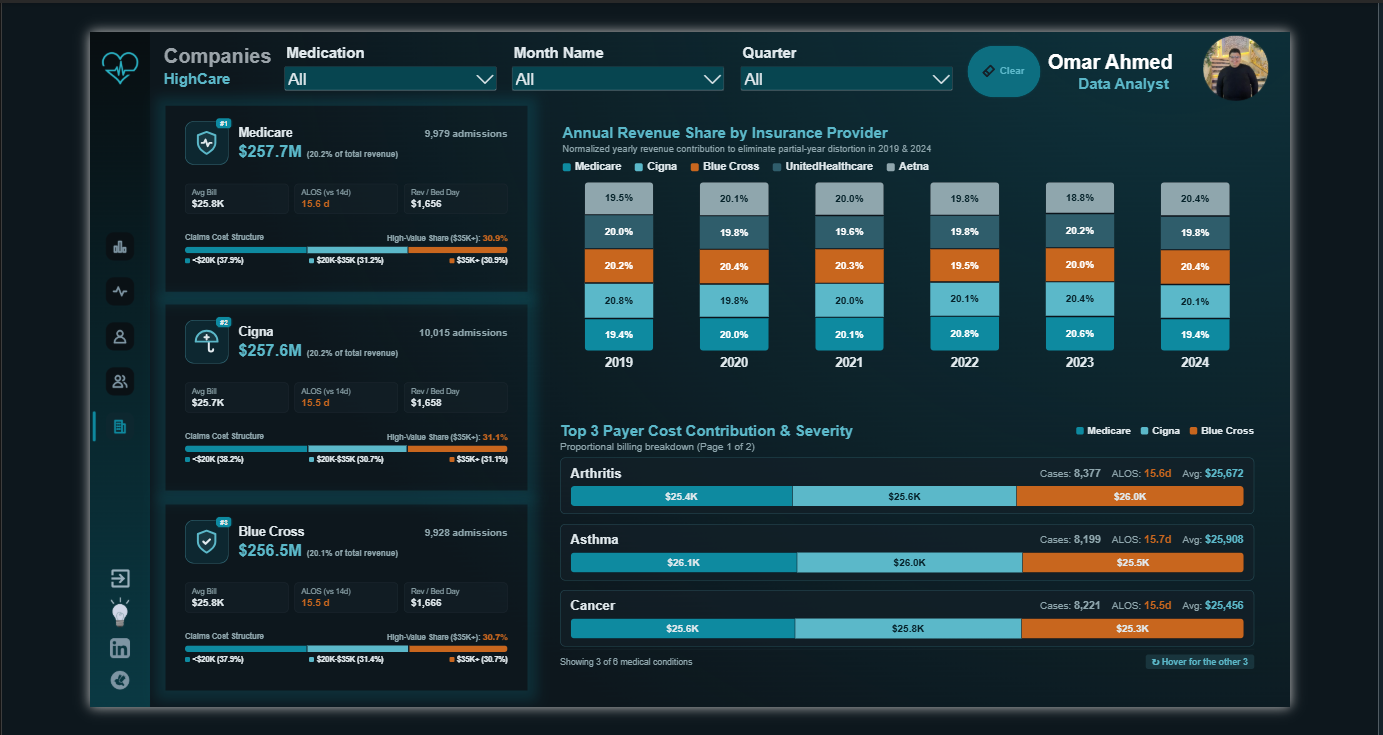

What the dashboard file says about the page in this screenshot:
{"tool":"powerbi","page":{"name":"Insurance Companies","canvas":[1920,1080],"ordinal":5},"visuals":[{"type":"slicer","fields":{"Values":["Dim_Date.Month Name"]},"box":[670,20,350,90],"z":0},{"type":"htmlContent443BE3AD55E043BF878BED274D3A6855","fields":{"content":["Dax_Measures.HTML_Card_Company1"]},"box":[120,118,580,298],"z":1000},{"type":"htmlContent443BE3AD55E043BF878BED274D3A6855","title":"KPI card 2","fields":{"content":["Dax_Measures.HTML_Card_Company2"]},"box":[120,436,580,298],"z":2000},{"type":"htmlContent443BE3AD55E043BF878BED274D3A6855","title":"Chart 3","fields":{"content":["Dax_Measures.HTML_Chart_Yearly_Payer_Share"]},"box":[718,117,1178,461],"z":3000},{"type":"htmlContent443BE3AD55E043BF878BED274D3A6855","title":"Chart 4","fields":{"content":["Dax_Measures.HTML_Chart_Condition_AvgBill"]},"box":[718,596,1178,458],"z":4000},{"type":"htmlContent443BE3AD55E043BF878BED274D3A6855","title":"KPI card 5","fields":{"content":["Dax_Measures.HTML_Card_Company3"]},"box":[120,755,580,298],"z":5000},{"type":"textbox","title":"Page title","box":[118,20,188,42],"z":6000},{"type":"textbox","title":"Subtitle","box":[118,58,167,41],"z":7000},{"type":"actionButton","title":"Go to Overview","box":[18,313,60,60],"z":8000},{"type":"actionButton","title":"Go to Hospitals","box":[18,385,60,60],"z":9000},{"type":"actionButton","title":"Go to Patients","box":[18,457,60,60],"z":10000},{"type":"actionButton","title":"Go to Doctors","box":[18,529,60,60],"z":11000},{"type":"actionButton","title":"Go to Insurance Companies","box":[18,601,60,60],"z":12000},{"type":"actionButton","title":"LinkedIn","box":[32,970,32,32],"z":13000},{"type":"actionButton","title":"Website","box":[32,1021,32,32],"z":14000},{"type":"image","title":"Logo","box":[14,26,68,64],"z":15000},{"type":"group","id":"g1","title":"Group 1","box":[1526,6,394,104],"z":16000},{"type":"slicer","fields":{"Values":["Dim_Medications.Medication"]},"box":[305,20,350,87.5],"z":17000},{"type":"slicer","fields":{"Values":["Dim_Date.Quarter"]},"box":[1035,20,350,90],"z":18000},{"type":"actionButton","box":[1400.7,18.1,124.9,90.5],"z":19000},{"type":"image","box":[10,837.5,77.5,72.5],"z":19001},{"type":"image","box":[18.1,892.2,59.7,72.4],"z":19002},{"type":"image","box":[1746,6,174,104],"z":20000,"group":"g1"},{"type":"textbox","box":[1526,30,206.5,78.1],"z":21000,"group":"g1"}]}

Visuals, with their boxes on the page's 1920x1080 design canvas (x1, y1, x2, y2). These are canvas units, not pixel positions in the 1383x735 screenshot, which may show the page scaled, cropped or inside an application window:
slicer - Dim_Date.Month Name: <region>670, 20, 1020, 110</region>
htmlContent443BE3AD55E043BF878BED274D3A6855 - Dax_Measures.HTML_Card_Company1: <region>120, 118, 700, 416</region>
"KPI card 2" htmlContent443BE3AD55E043BF878BED274D3A6855: <region>120, 436, 700, 734</region>
"Chart 3" htmlContent443BE3AD55E043BF878BED274D3A6855: <region>718, 117, 1896, 578</region>
"Chart 4" htmlContent443BE3AD55E043BF878BED274D3A6855: <region>718, 596, 1896, 1054</region>
"KPI card 5" htmlContent443BE3AD55E043BF878BED274D3A6855: <region>120, 755, 700, 1053</region>
"Page title" textbox: <region>118, 20, 306, 62</region>
"Subtitle" textbox: <region>118, 58, 285, 99</region>
"Go to Overview" actionButton: <region>18, 313, 78, 373</region>
"Go to Hospitals" actionButton: <region>18, 385, 78, 445</region>
"Go to Patients" actionButton: <region>18, 457, 78, 517</region>
"Go to Doctors" actionButton: <region>18, 529, 78, 589</region>
"Go to Insurance Companies" actionButton: <region>18, 601, 78, 661</region>
"LinkedIn" actionButton: <region>32, 970, 64, 1002</region>
"Website" actionButton: <region>32, 1021, 64, 1053</region>
"Logo" image: <region>14, 26, 82, 90</region>
"Group 1" group: <region>1526, 6, 1920, 110</region>
slicer - Dim_Medications.Medication: <region>305, 20, 655, 108</region>
slicer - Dim_Date.Quarter: <region>1035, 20, 1385, 110</region>
actionButton: <region>1401, 18, 1526, 109</region>
image: <region>10, 838, 88, 910</region>
image: <region>18, 892, 78, 965</region>
image: <region>1746, 6, 1920, 110</region>
textbox: <region>1526, 30, 1732, 108</region>
